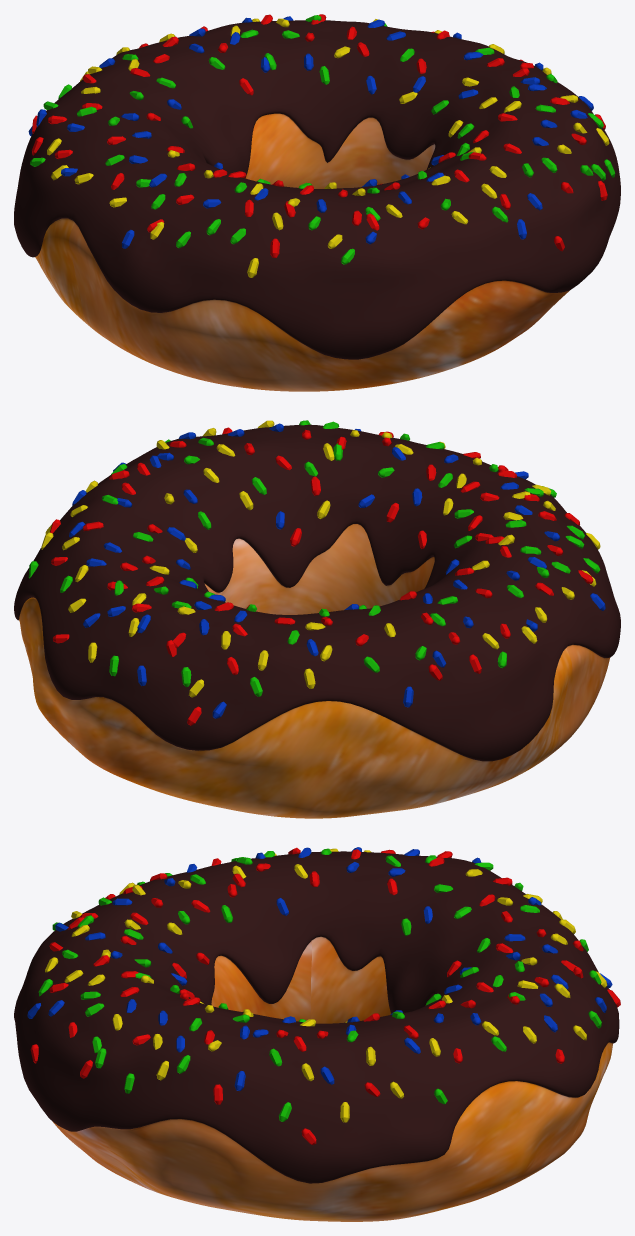
File: doughnut.glb
The picture shows the model from 3 angles, top to bottom: view 1: azimuth 30°, elevation 25°; view 2: azimuth 150°, elevation 25°; view 3: azimuth 270°, elevation 25°; orthographic projection. The views are drawn at different scales.
Parts seen in each view (by area): view 1: polySurface2, polySurface1; view 2: polySurface2, polySurface1; view 3: polySurface2, polySurface1.
Part boxes in pixels (<box>): polySurface2: <box>14,20,620,359</box>; polySurface1: <box>35,113,569,391</box>; polySurface2: <box>14,424,620,761</box>; polySurface1: <box>19,524,609,818</box>; polySurface2: <box>14,851,619,1183</box>; polySurface1: <box>52,936,613,1221</box>.
Size of the model in its own units: 20.98 by 7.93 by 21.03.
6 materials, 1 textured.
